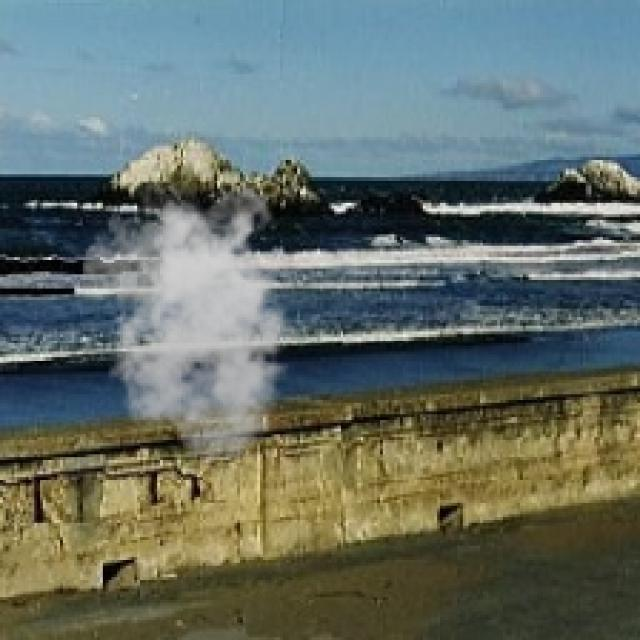smoke: (83, 180, 311, 463)
